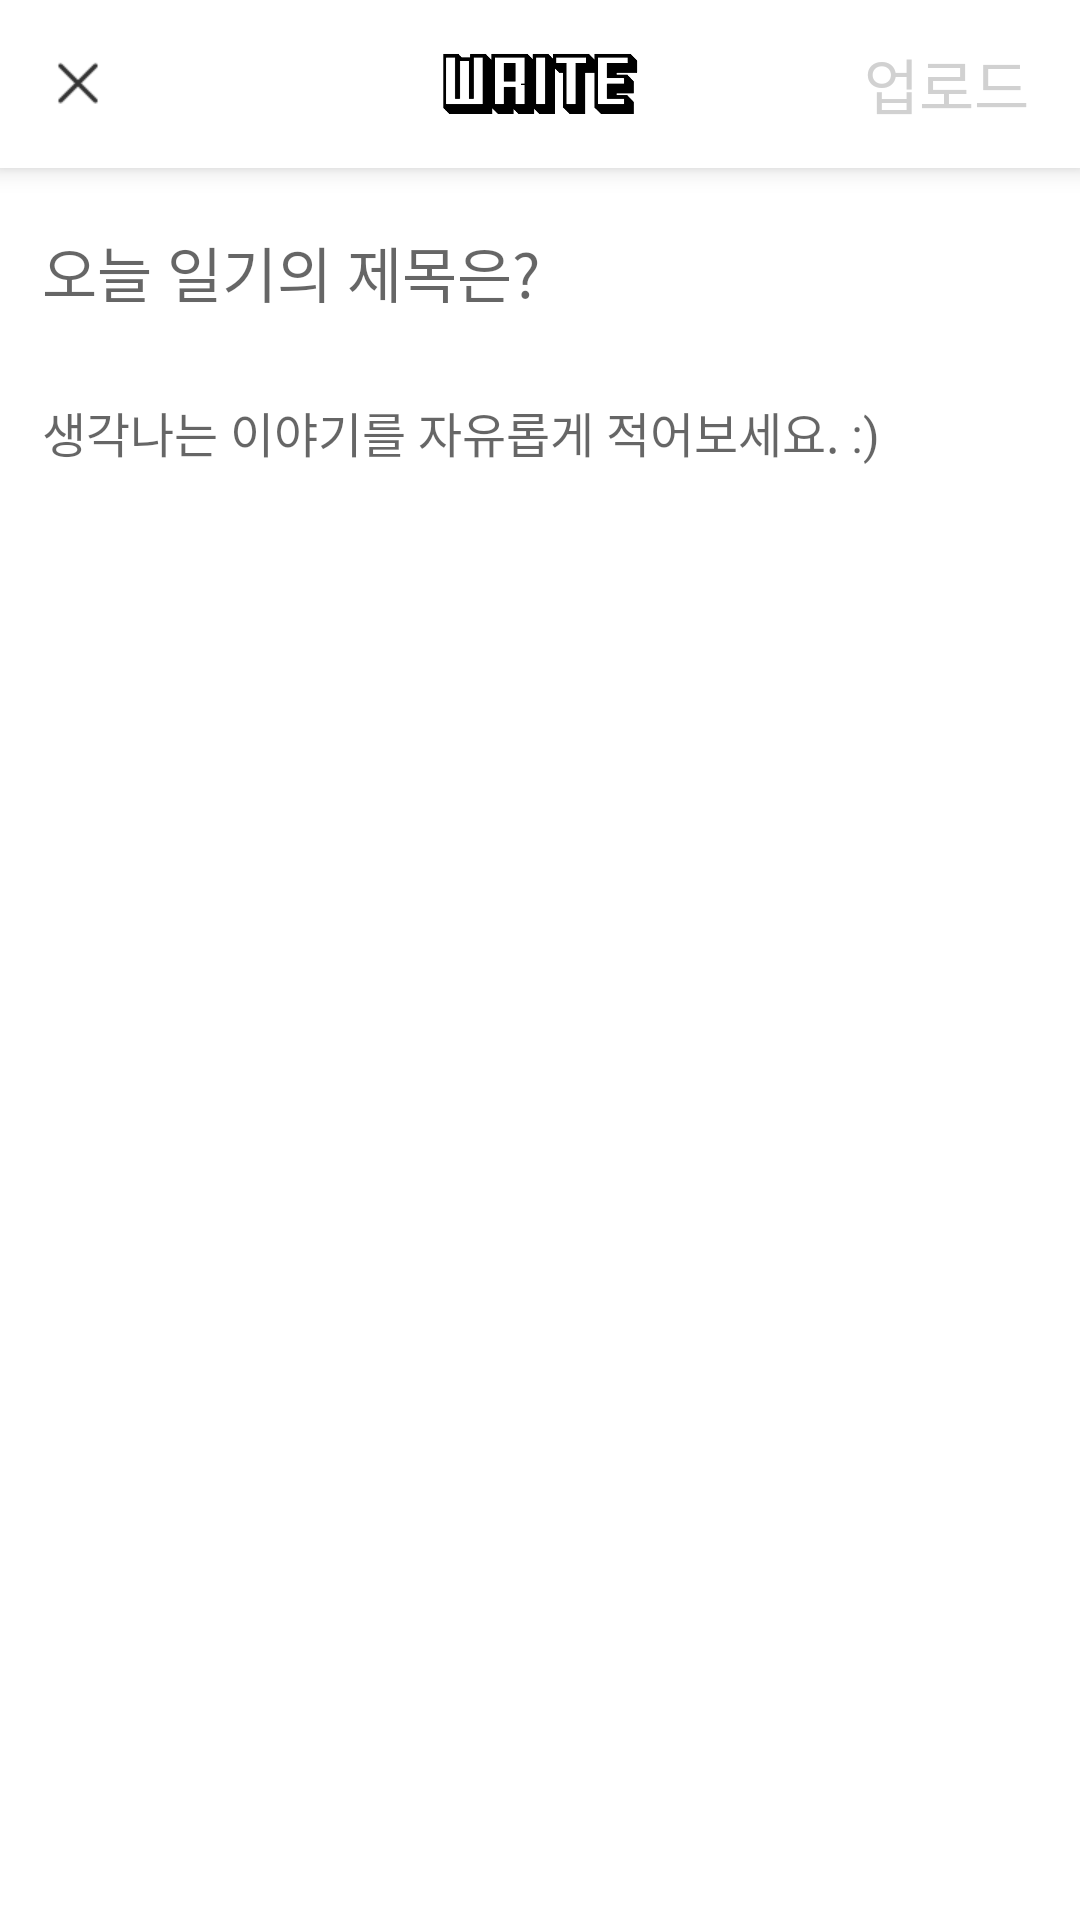

Point at icon controls on the screen. Image size 1080 × 1920, points as (x=x, y=y).
close: (x=78, y=83)
